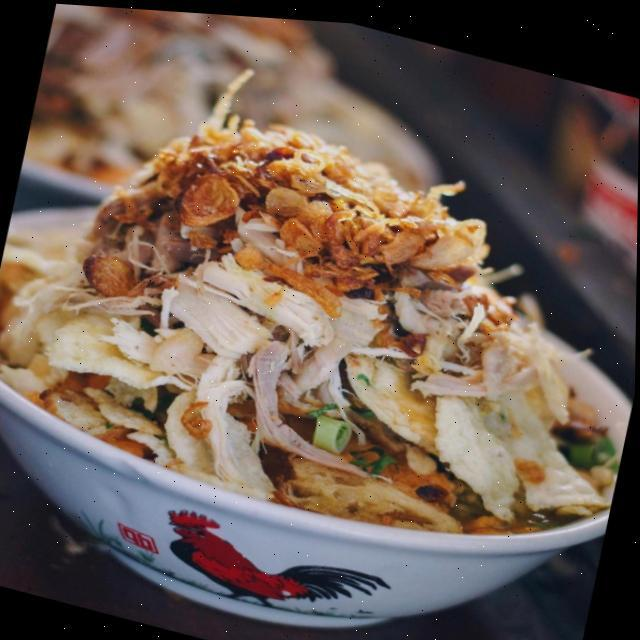bubur ayam: (0, 60, 639, 588)
mangkuk: (0, 173, 637, 640)
